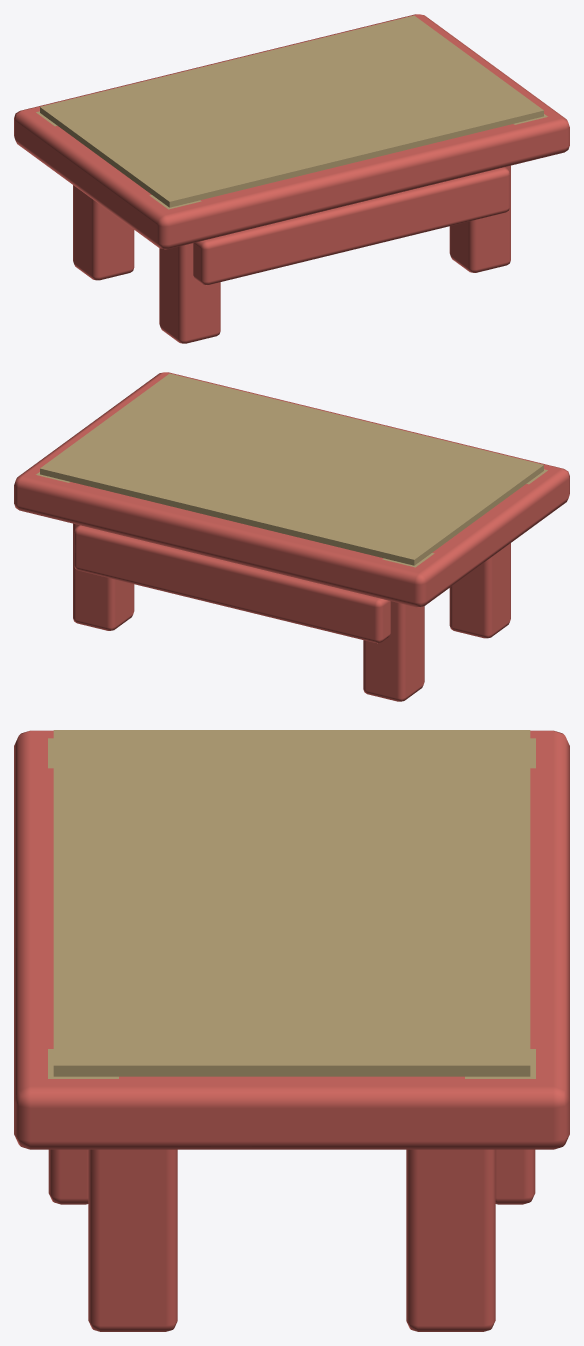
File: footstool.glb
The picture shows the model from 3 angles, top to bottom: view 1: azimuth 30°, elevation 25°; view 2: azimuth 150°, elevation 25°; view 3: azimuth 270°, elevation 25°; orthographic projection. The views are drawn at different scales.
Parts seen in each view (by area): view 1: throne-footstool; view 2: throne-footstool; view 3: throne-footstool.
Part boxes in pixels (<box>): throne-footstool: <box>14,14,569,343</box>; throne-footstool: <box>14,372,569,701</box>; throne-footstool: <box>14,730,569,1331</box>.
Bounding box in the file's own units: 0.88 × 0.322 × 0.56.
